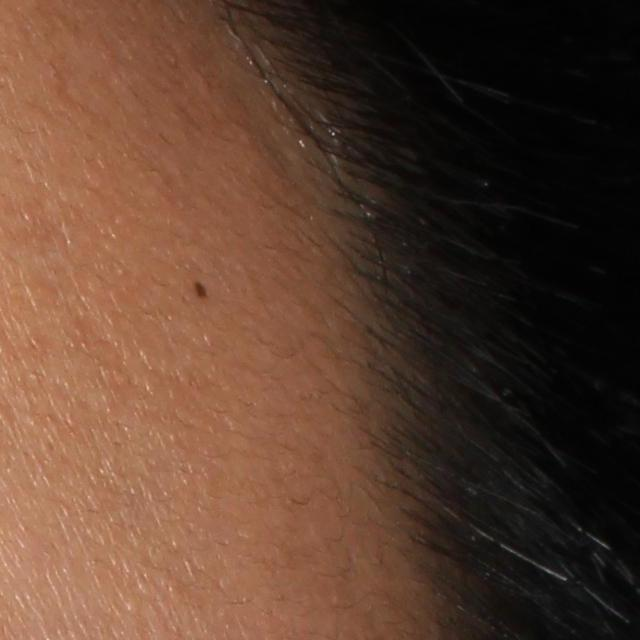nevus: (186, 275, 211, 307)
